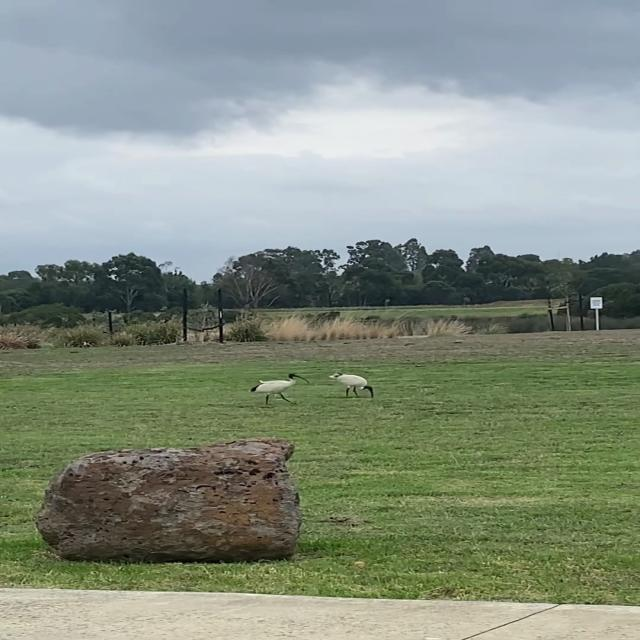Birds-Ibis: (248, 370, 314, 409), (324, 369, 381, 404)
